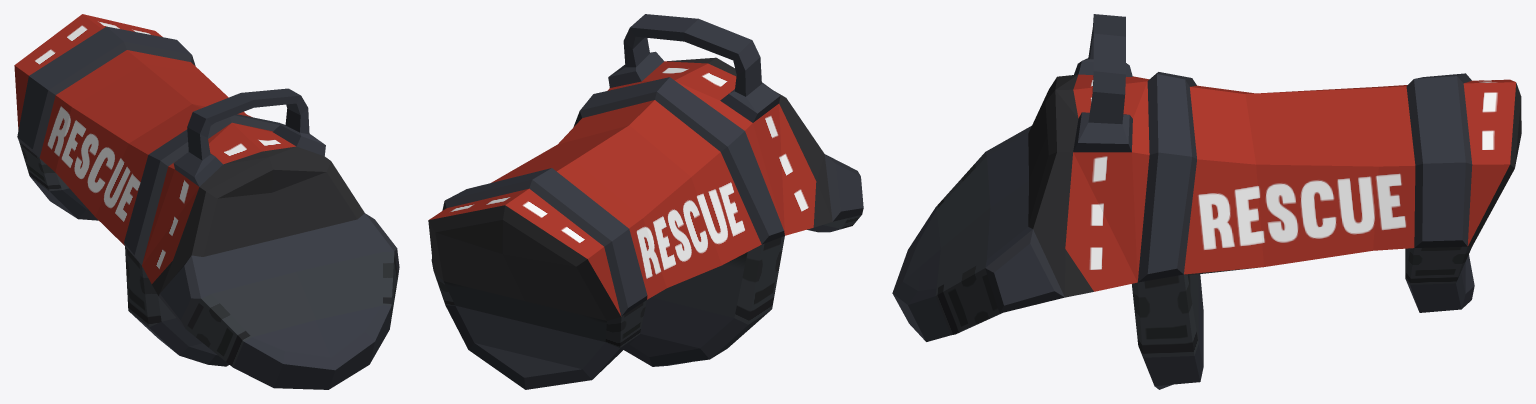
File: SK_Chr_Attach_Vest_Rescue_Small_01.fbx
The picture shows the model from 3 angles, left to right: view 1: azimuth 30°, elevation 25°; view 2: azimuth 150°, elevation 25°; view 3: azimuth 270°, elevation 25°; orthographic projection. The views are drawn at different scales.
Parts seen in each view (by area): view 1: SK_Chr_Attach_Vest_Rescue_Small_01; view 2: SK_Chr_Attach_Vest_Rescue_Small_01; view 3: SK_Chr_Attach_Vest_Rescue_Small_01.
Boxes of the visible parts, left/top/right/bottom form: SK_Chr_Attach_Vest_Rescue_Small_01: left=14, top=14, right=399, bottom=389; SK_Chr_Attach_Vest_Rescue_Small_01: left=428, top=14, right=863, bottom=389; SK_Chr_Attach_Vest_Rescue_Small_01: left=892, top=14, right=1521, bottom=389.
Size of the model in its own units: 34.31 by 42.82 by 69.02.
